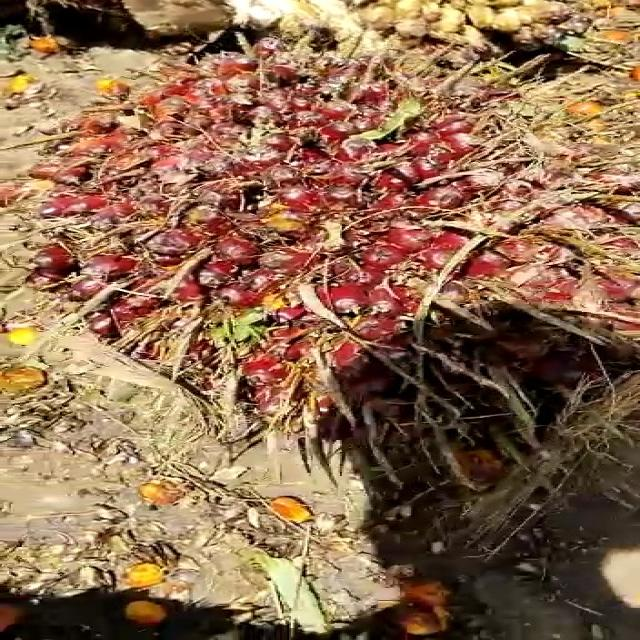palm oil: (9, 23, 628, 436)
